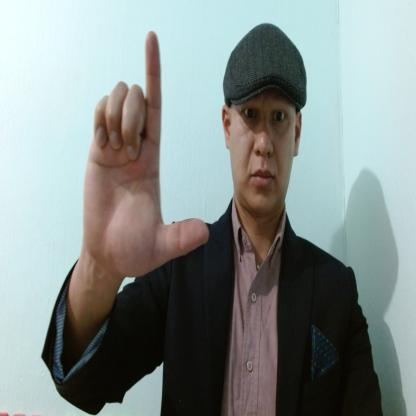L: (84, 32, 209, 278)
